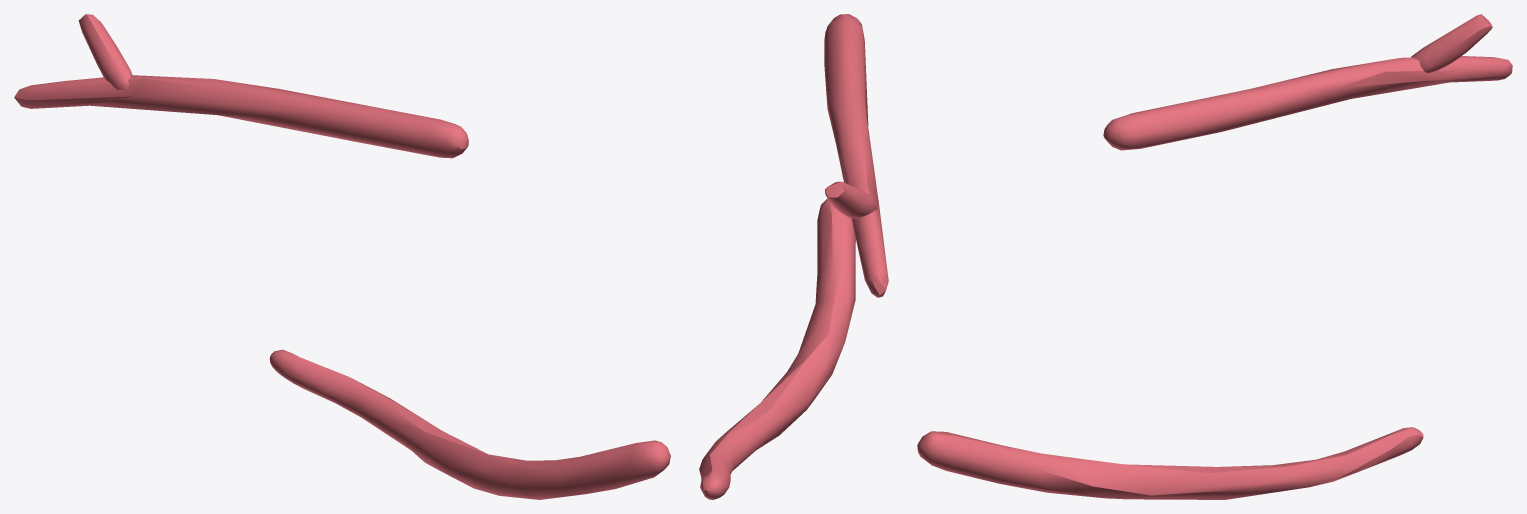
File: fma8663_cx274.glb
The picture shows the model from 3 angles, left to right: view 1: azimuth 30°, elevation 25°; view 2: azimuth 150°, elevation 25°; view 3: azimuth 270°, elevation 25°; orthographic projection. The views are drawn at different scales.
Visible parts, largest first — view 1: FMA8663_CX274; view 2: FMA8663_CX274; view 3: FMA8663_CX274.
Part boxes in pixels (box(x1,y1,x2,y2)): FMA8663_CX274: box(14, 14, 670, 499); FMA8663_CX274: box(699, 14, 888, 499); FMA8663_CX274: box(917, 14, 1512, 499).
Bounding box in the file's own units: 0.0387 × 0.041 × 0.0572.
